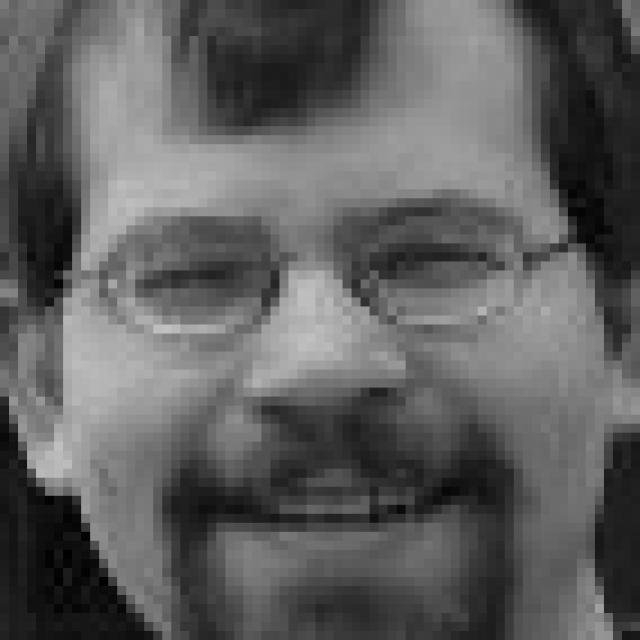real: (59, 1, 608, 640), (102, 217, 514, 325)
